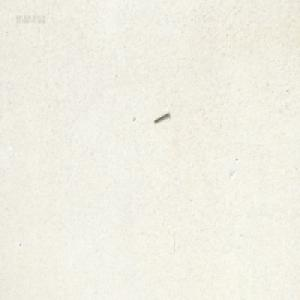Bolt: (153, 111, 169, 123)
